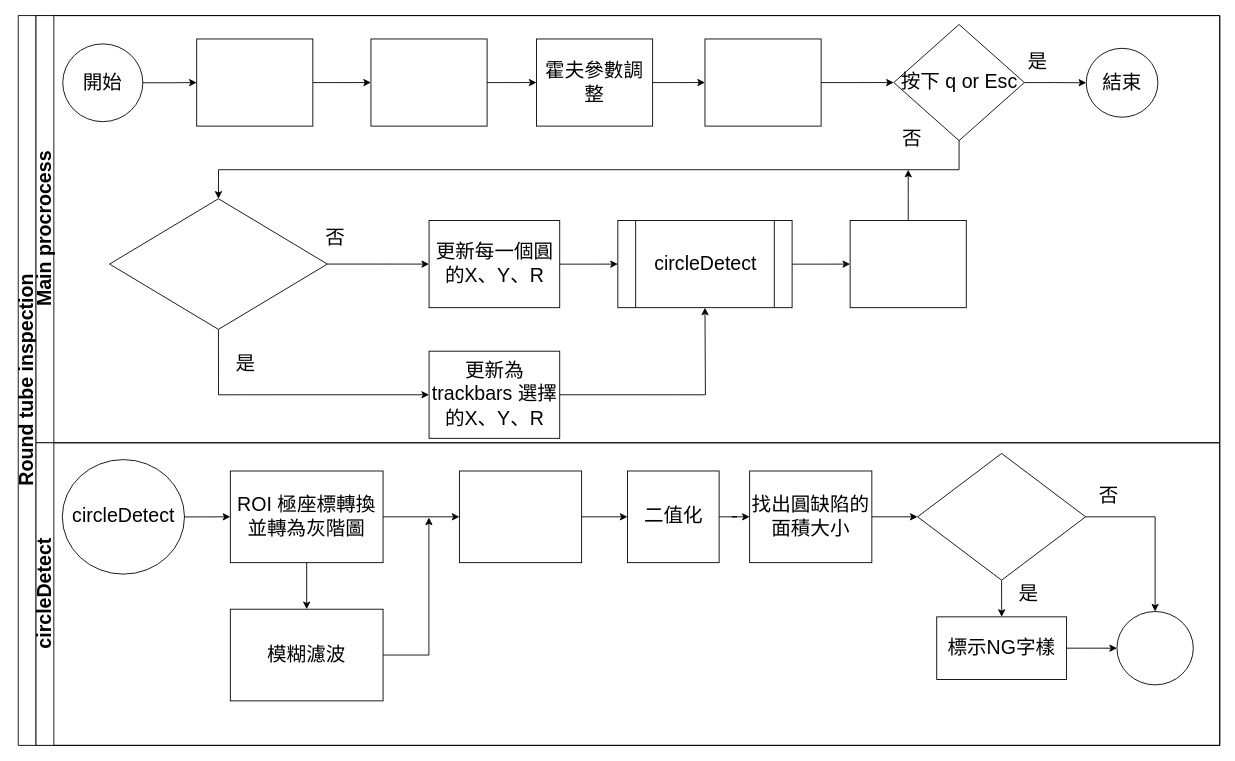
The diagram is 1235 pixels wide and 761 high, and some of its shapes have lost their labels. The centre of each missing label's shape, as x and y in pixels:
"circles 排序" goes at [762,82].
"end" goes at [1154,648].
"imgMerge" goes at [907,264].
"圖片前處理" goes at [428,82].
"是否已尋訪每一個圓" goes at [218,263].
"灰階和濾波後的圖做差分" goes at [520,516].
"缺陷面積是否 大於150" goes at [1001,516].
"輸入圖片" goes at [254,82].
